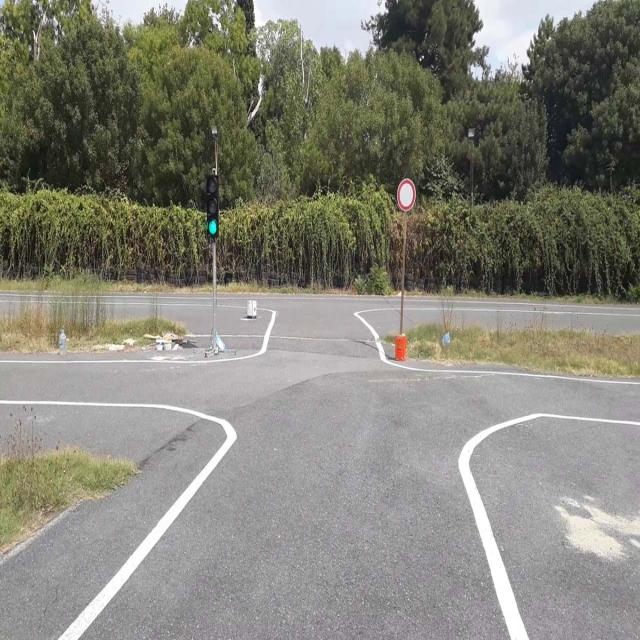yesil: (206, 175, 218, 237)
